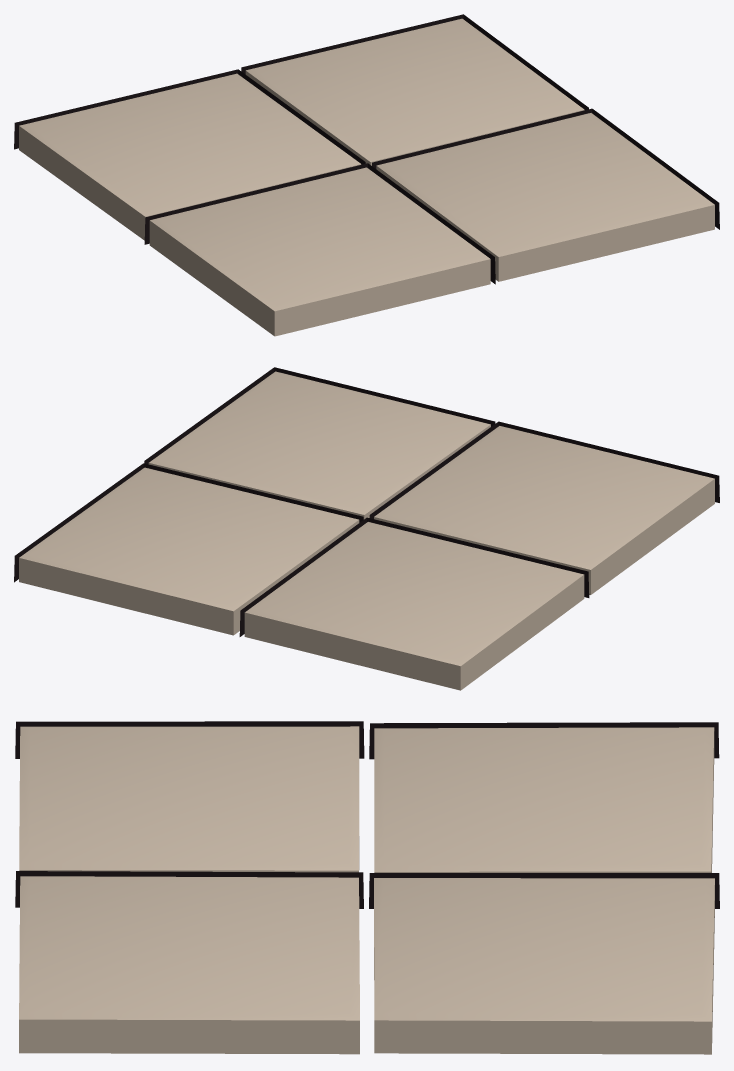
File: SM_Trail_Paving_Corner_01.fbx
3 renders of one model, top to bottom at view 1: azimuth 30°, elevation 25°; view 2: azimuth 150°, elevation 25°; view 3: azimuth 270°, elevation 25°, orthographic. The views are drawn at different scales.
Visible parts, largest first — view 1: SM_Trail_Paving_Corner_01; view 2: SM_Trail_Paving_Corner_01; view 3: SM_Trail_Paving_Corner_01.
Boxes of the visible parts, x1,y1,x2,y2 form: SM_Trail_Paving_Corner_01: (14,14,719,336); SM_Trail_Paving_Corner_01: (14,367,719,690); SM_Trail_Paving_Corner_01: (15,721,719,1054).
Bounding box in the file's own units: 2.99 × 0.2022 × 3.
